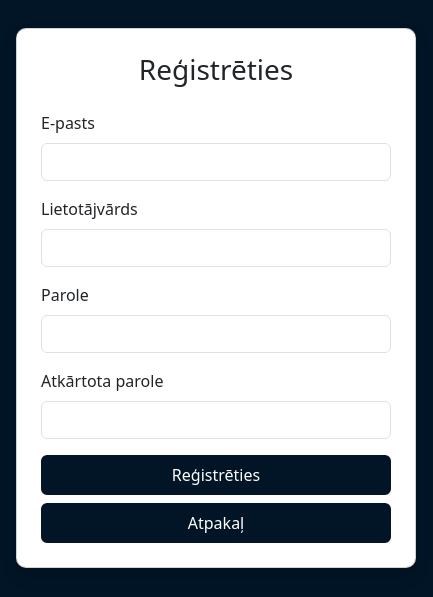
Test case: Register › [LM1_T2] ERR2 - Lietotājvārdam jābūt 3-20 simbolu garam
Type "valid@email.com" into the field named "email" at x=216, y=162, box 41,143 -> 391,181
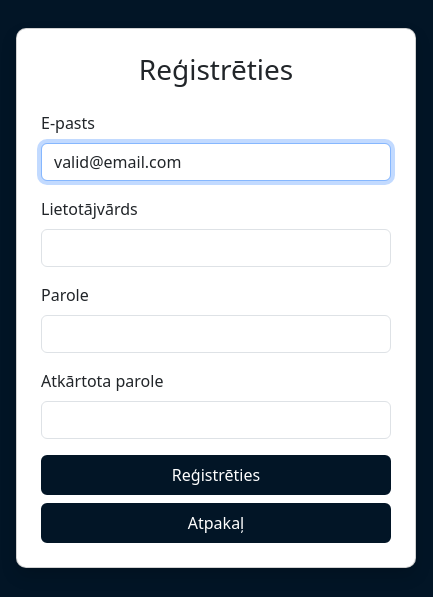
Type "us" into the field named "username" at x=216, y=248, box 41,229 -> 391,267
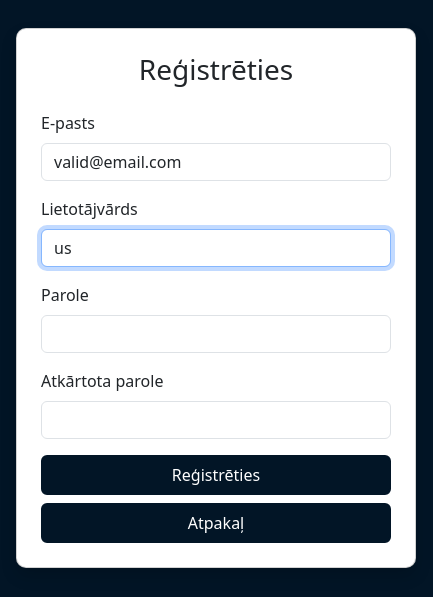
Type "ValidPassword123!" into the password field named "password" at x=216, y=334, box 41,315 -> 391,353
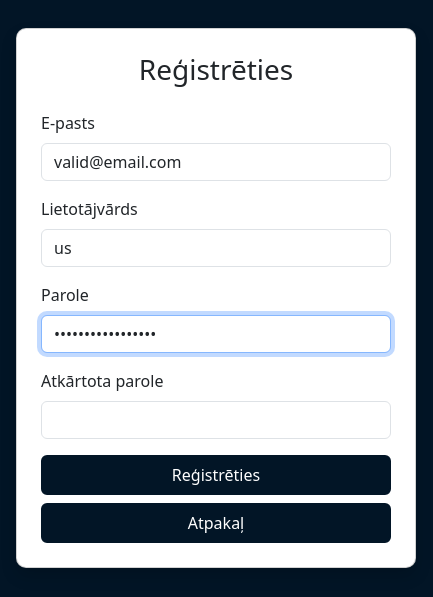
Type "ValidPassword123!" into the password field named "repeatPassword" at x=216, y=420, box 41,401 -> 391,439
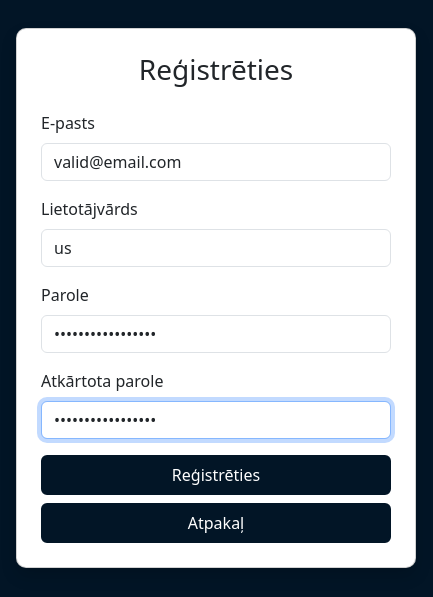
Click the submit button at x=216, y=475, box 41,455 -> 391,495
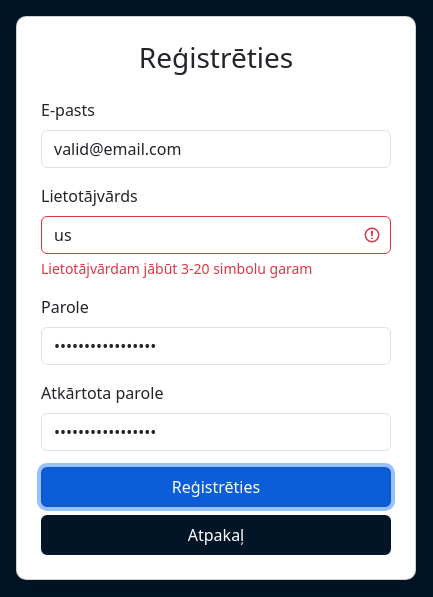
Expected: the text with class "invalid-feedback" reads "Lietotājvārdam jābūt 3-20 simbolu garam", 41,259 -> 312,278
